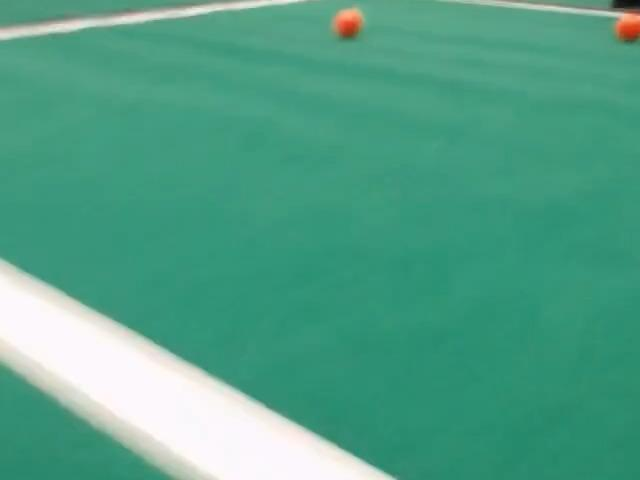Ball: (333, 8, 363, 38), (615, 13, 639, 41)
